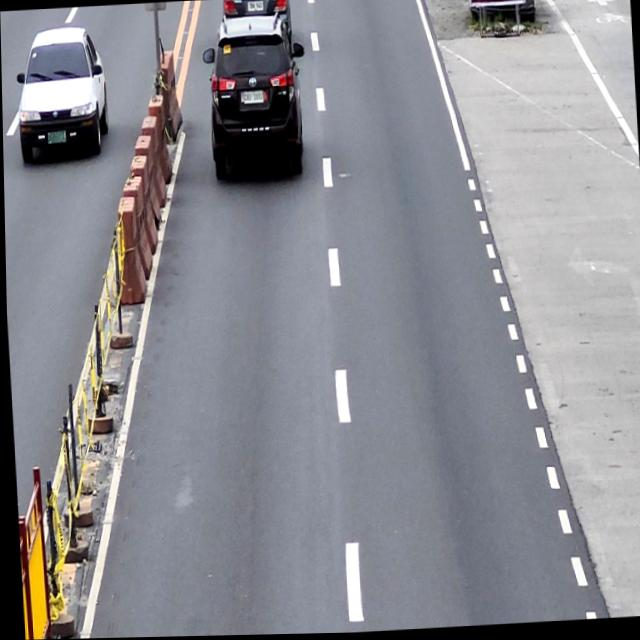Car: (203, 15, 300, 181)
License-Plate: (242, 90, 264, 107)
